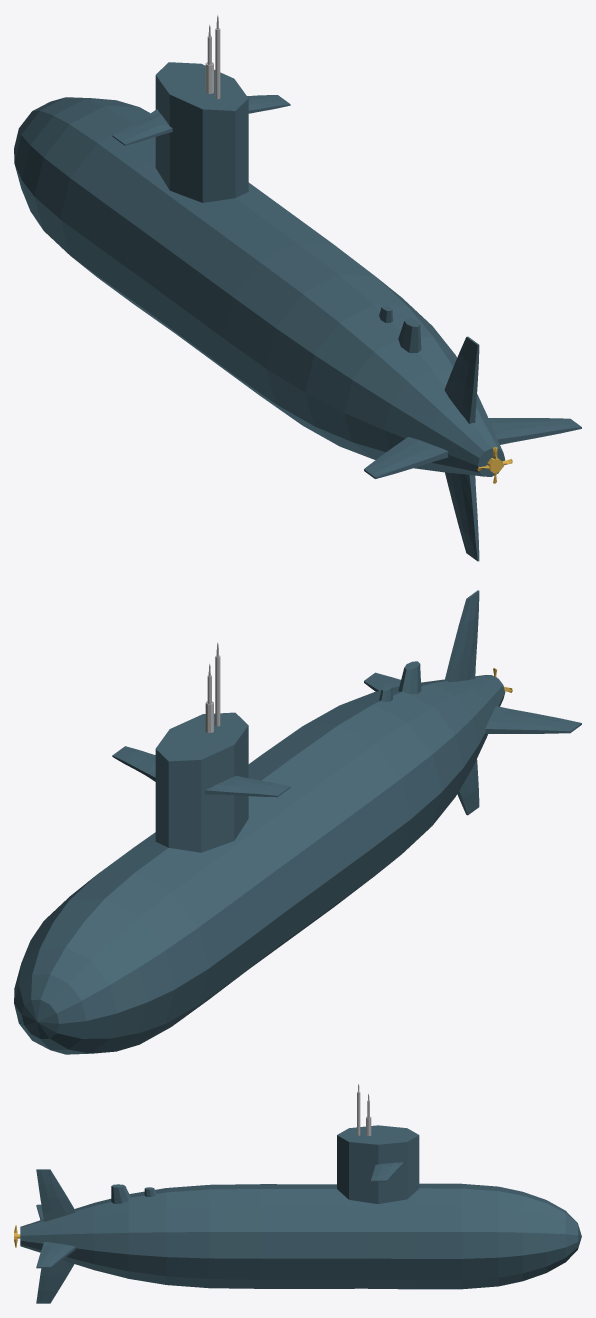
File: sub_submarine.glb
3 renders of one model, top to bottom at view 1: azimuth 30°, elevation 25°; view 2: azimuth 150°, elevation 25°; view 3: azimuth 270°, elevation 25°, orthographic. The views are drawn at different scales.
Parts seen in each view (by area): view 1: Node; view 2: Node; view 3: Node.
Boxes of the visible parts, bbox=[...] form: Node: bbox=[14, 15, 581, 561]; Node: bbox=[14, 590, 581, 1054]; Node: bbox=[14, 1084, 581, 1303].
Size of the model in its own units: 0.2597 by 0.4274 by 1.
